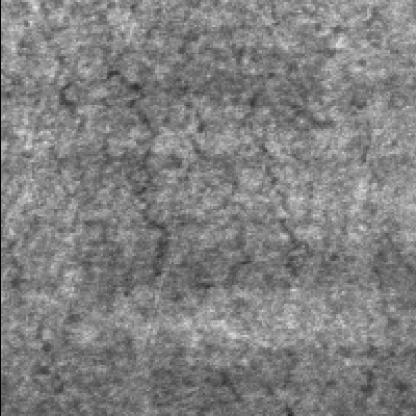crazing: (183, 81, 306, 291), (52, 66, 164, 274)
